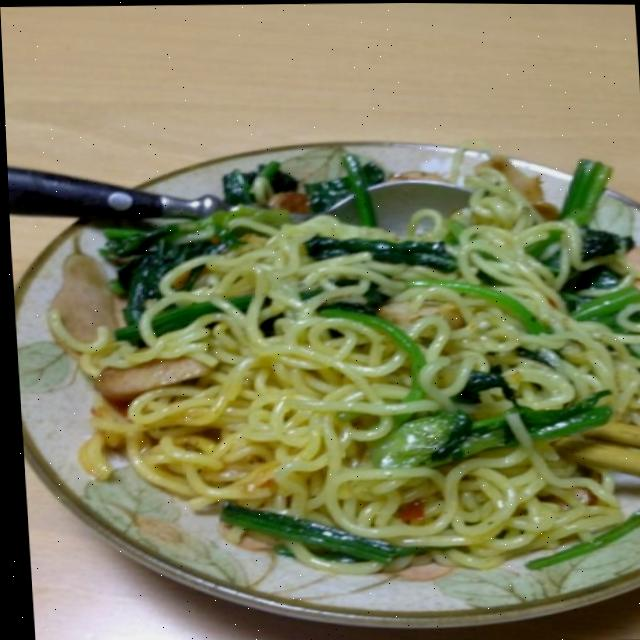面条主食: (14, 103, 640, 619)
